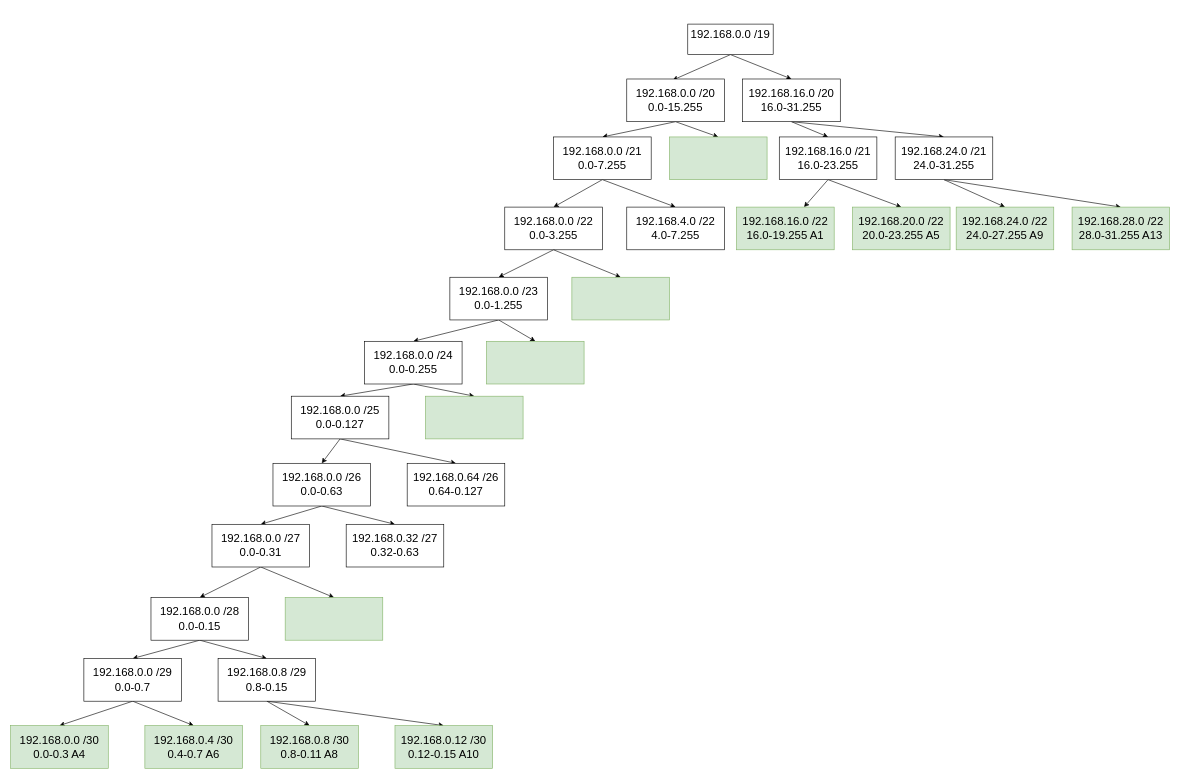
This 1180x779 diagram has some shape labels left out. The shapes that lost their labels are listed below. From the top down, each one's box as (x1, y1, x2, y2) in pixels, then its label:
(669, 136, 767, 180): 192.168.8.0 /21 8.0-15.255 A11
(571, 277, 669, 320): 192.168.2.0 /23 2.0-3.255 A7
(486, 341, 584, 384): 192.168.1.0 /24 1.0-1.255 A2
(425, 396, 523, 439): 192.168.0.128 /25 0.128-0.255 A12
(285, 597, 383, 640): 192.168.0.16 /28 0.16-0.31 A3
